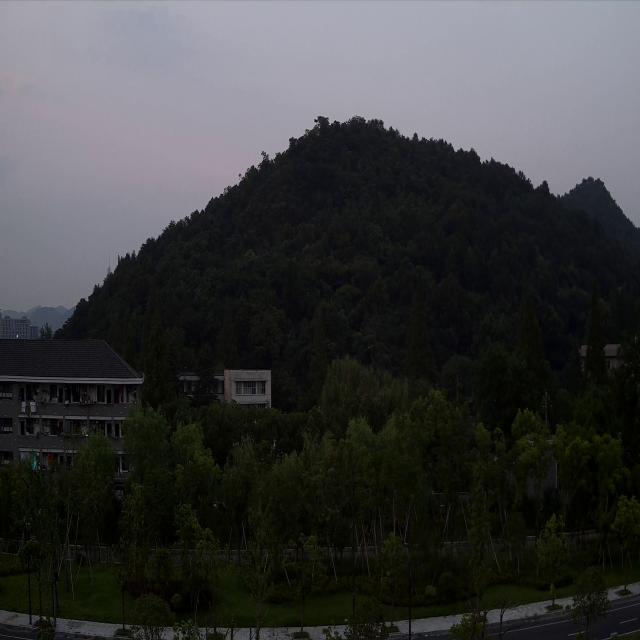drone: (365, 343, 375, 352)
